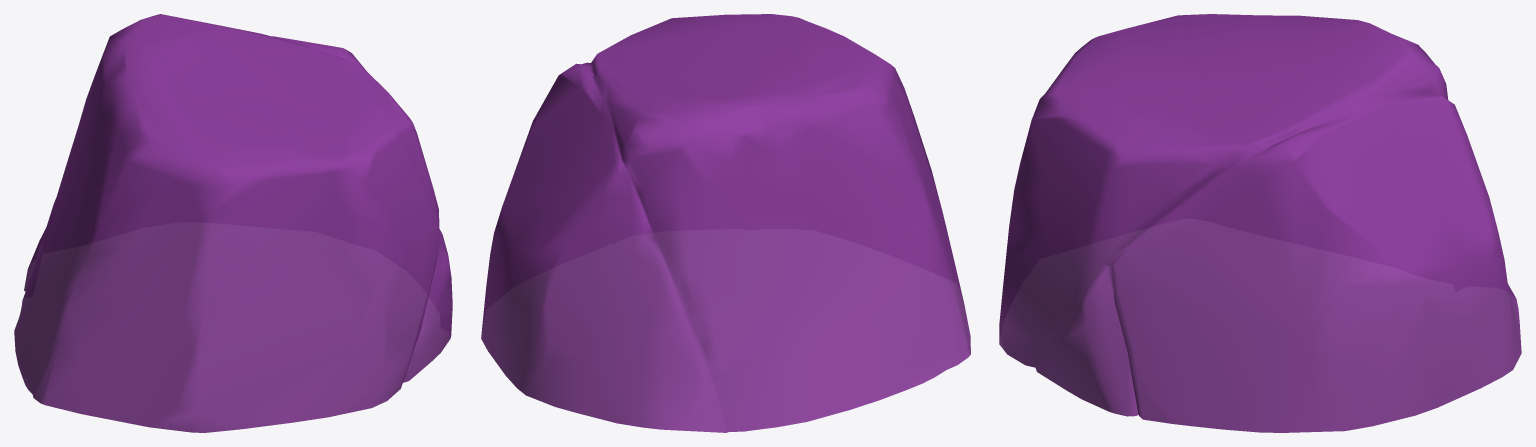
File: SM_Stone_04_low.fbx
The picture shows the model from 3 angles, left to right: view 1: azimuth 30°, elevation 25°; view 2: azimuth 150°, elevation 25°; view 3: azimuth 270°, elevation 25°; orthographic projection. The views are drawn at different scales.
Parts seen in each view (by area): view 1: SM_Stone_04_low; view 2: SM_Stone_04_low; view 3: SM_Stone_04_low.
Boxes of the visible parts, bbox=[...] form: SM_Stone_04_low: bbox=[14, 14, 452, 432]; SM_Stone_04_low: bbox=[481, 14, 970, 432]; SM_Stone_04_low: bbox=[999, 14, 1521, 432].
Bounding box in the file's own units: 1053 × 1082 × 683.
